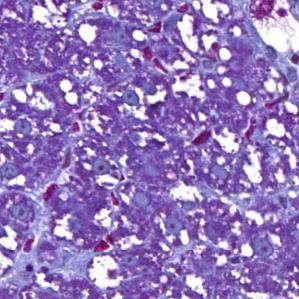ballooning: (249, 3, 297, 55)
